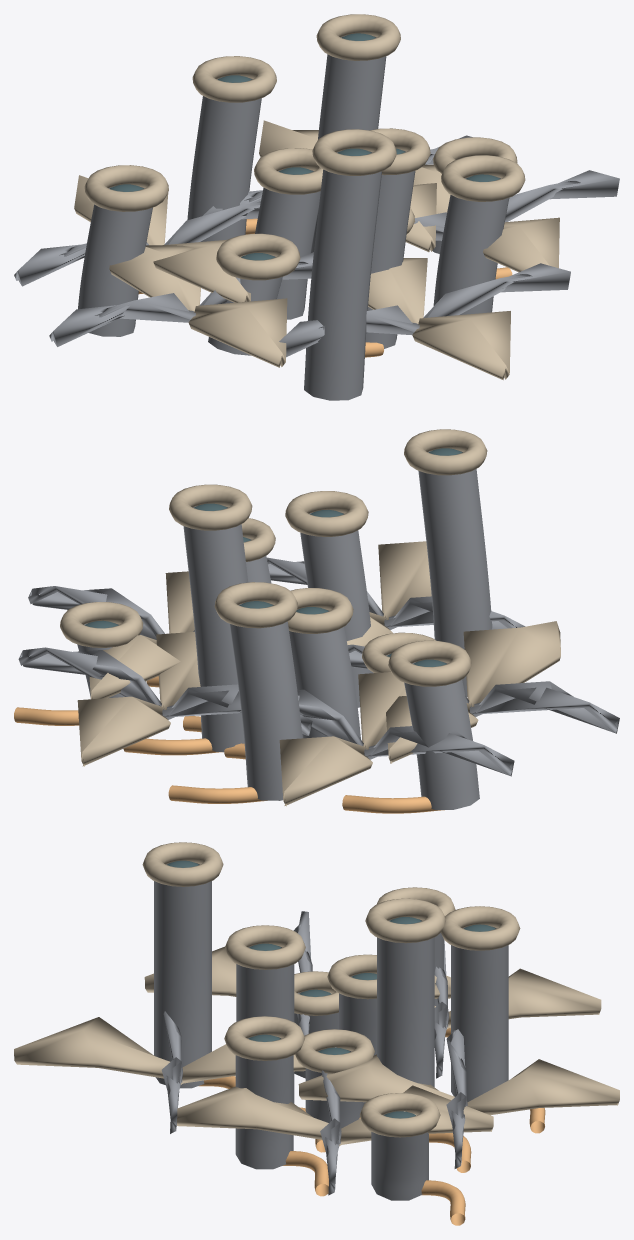
The model's file is bio_thermal_colony_05_near.glb.
3 views of the same model, one above another, from view 1: azimuth 30°, elevation 25°; view 2: azimuth 150°, elevation 25°; view 3: azimuth 270°, elevation 25° (orthographic). The views are drawn at different scales.
Visible parts, largest first — view 1: Chimney biofilm.007, Low buttress leaf.017, Low buttress leaf.009, Chimney biofilm.006, Chimney biofilm.009, Chimney biofilm.005, Low buttress leaf.008, Chimney biofilm.003, Low buttress leaf.005, Low buttress leaf.001, Chimney biofilm.001, Low buttress leaf.016 (+14 smaller); view 2: Chimney biofilm.007, Chimney biofilm.006, Chimney biofilm.003, Low buttress leaf.005, Low buttress leaf.017, Low buttress leaf.013, Chimney biofilm.009, Low buttress leaf.012, Chimney biofilm.001, Chimney biofilm.002, Low buttress leaf.004, Low buttress leaf.001 (+18 smaller); view 3: Chimney biofilm.007, Chimney biofilm.003, Low buttress leaf.013, Chimney biofilm.006, Low buttress leaf.009, Low buttress leaf.001, Chimney biofilm.005, Chimney biofilm.008, Low buttress leaf.005, Chimney biofilm.002, Open vent rim.007, Open vent rim.002 (+20 smaller).
Boxes of the visible parts, x1,y1,x2,y2 form: Chimney biofilm.007: [304, 151, 381, 400]; Low buttress leaf.017: [109, 245, 287, 367]; Low buttress leaf.009: [368, 258, 510, 380]; Chimney biofilm.006: [187, 77, 261, 241]; Chimney biofilm.009: [78, 187, 152, 336]; Chimney biofilm.005: [433, 177, 509, 314]; Low buttress leaf.008: [279, 263, 570, 357]; Chimney biofilm.003: [311, 36, 386, 252]; Low buttress leaf.005: [74, 175, 250, 302]; Low buttress leaf.001: [413, 164, 559, 272]; Chimney biofilm.001: [255, 169, 320, 319]; Low buttress leaf.016: [49, 252, 313, 346]; Chimney biofilm.007: [418, 450, 492, 697]; Chimney biofilm.006: [229, 603, 302, 800]; Chimney biofilm.003: [183, 506, 248, 752]; Low buttress leaf.005: [279, 672, 406, 806]; Low buttress leaf.017: [386, 621, 560, 763]; Low buttress leaf.013: [77, 631, 200, 766]; Chimney biofilm.009: [404, 662, 479, 810]; Low buttress leaf.012: [18, 647, 312, 736]; Chimney biofilm.001: [289, 609, 360, 738]; Chimney biofilm.002: [300, 512, 373, 707]; Low buttress leaf.004: [297, 689, 514, 776]; Low buttress leaf.001: [88, 571, 194, 699]; Chimney biofilm.007: [154, 863, 211, 1088]; Chimney biofilm.003: [377, 920, 434, 1087]; Low buttress leaf.013: [298, 1054, 619, 1115]; Chimney biofilm.006: [451, 927, 508, 1102]; Low buttress leaf.009: [14, 1017, 305, 1084]; Low buttress leaf.001: [177, 1085, 493, 1145]; Chimney biofilm.005: [235, 1037, 293, 1169]; Chimney biofilm.008: [371, 1114, 428, 1200]; Low buttress leaf.005: [328, 968, 601, 1029]; Chimney biofilm.002: [236, 946, 294, 1103]; Open vent rim.007: [142, 842, 223, 886]; Open vent rim.002: [225, 925, 305, 969].
Size of the model in its own units: 2.22 by 0.9095 by 2.09.
